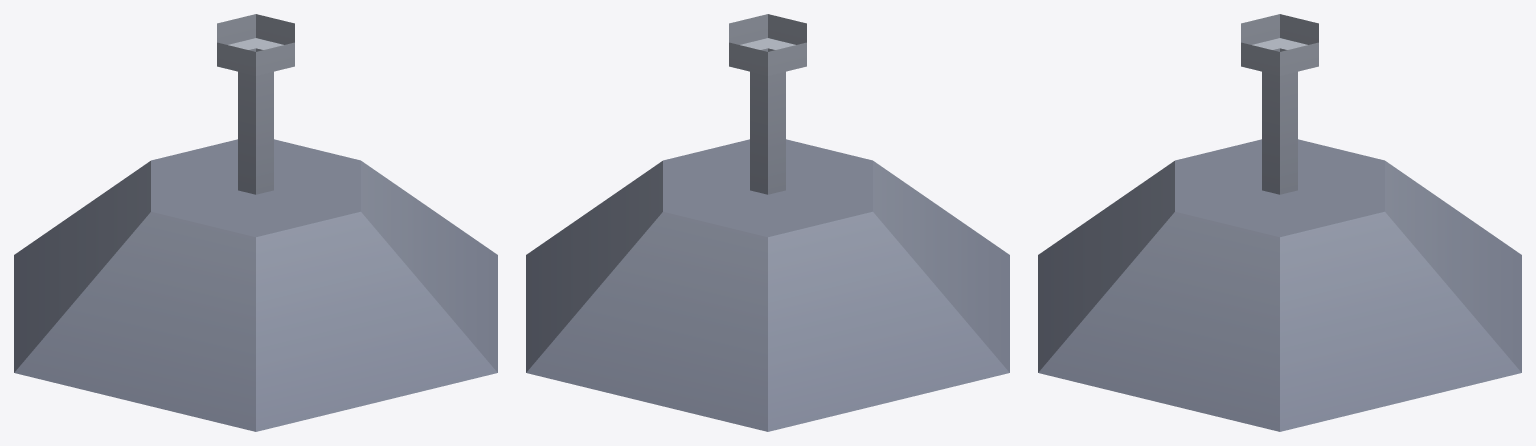
Rendered from squidgame_light_light3.fbx.
3 views of the same model, side by side, from view 1: azimuth 30°, elevation 25°; view 2: azimuth 150°, elevation 25°; view 3: azimuth 270°, elevation 25° (orthographic).
Parts seen in each view (by area): view 1: squidgame_light_light3; view 2: squidgame_light_light3; view 3: squidgame_light_light3.
Part boxes in pixels (left/top/right/bottom): squidgame_light_light3: left=14, top=14, right=497, bottom=431; squidgame_light_light3: left=526, top=14, right=1009, bottom=431; squidgame_light_light3: left=1038, top=14, right=1521, bottom=431.
Bounding box in the file's own units: 0.4716 × 0.3472 × 0.4084.
